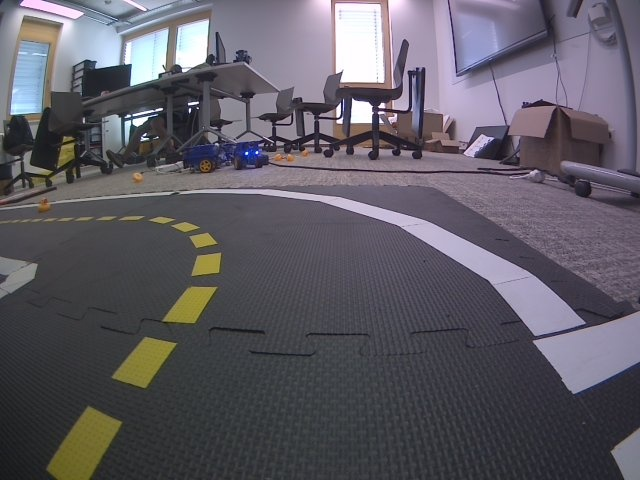Bot: (182, 144, 218, 173), (233, 144, 264, 169), (233, 50, 251, 65)
